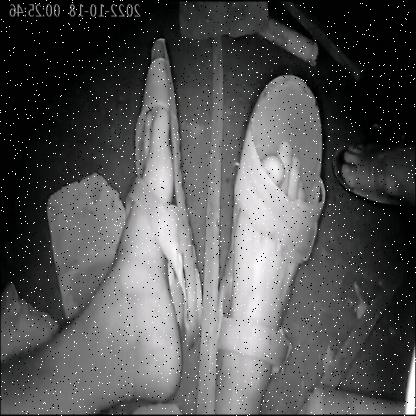leg: (1, 31, 188, 416), (206, 65, 338, 416), (330, 110, 416, 218)
